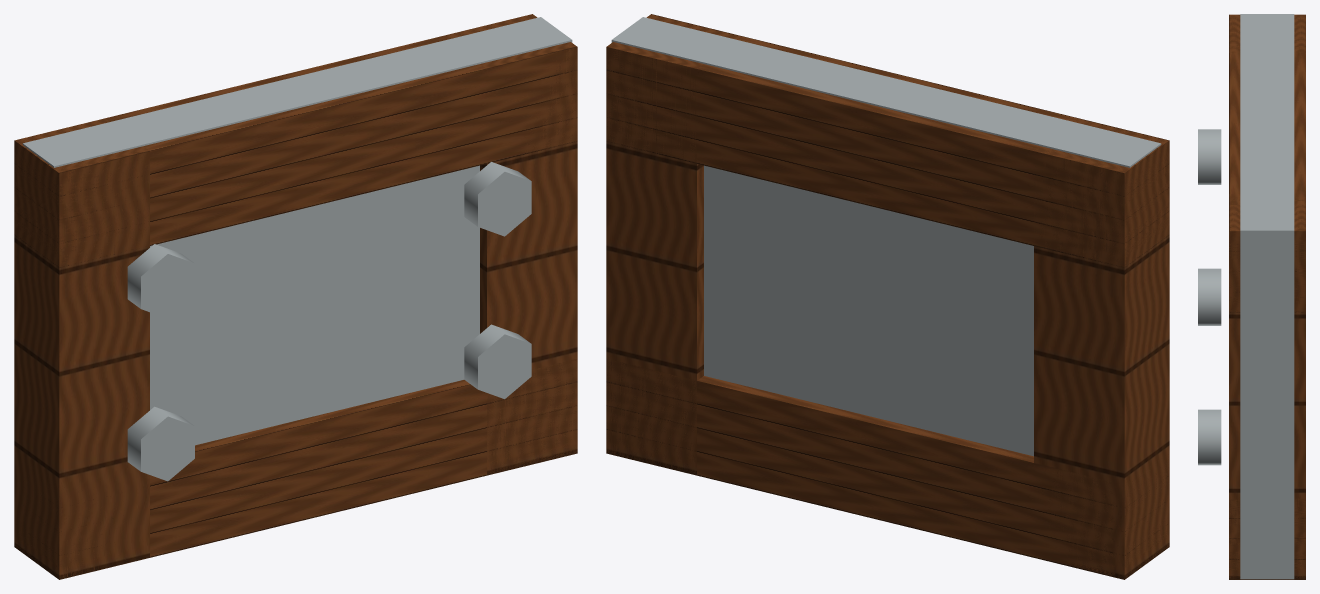
File: modular-survival-base-builder-wall-tie-plate-29d8b4a5__24255.glb
3 renders of one model, left to right at view 1: azimuth 30°, elevation 25°; view 2: azimuth 150°, elevation 25°; view 3: azimuth 270°, elevation 25°, orthographic. The views are drawn at different scales.
Visible parts, largest first — view 1: wall-tie-plate; view 2: wall-tie-plate; view 3: wall-tie-plate.
Boxes of the visible parts, left/top/right/bottom form: wall-tie-plate: left=14, top=14, right=577, bottom=579; wall-tie-plate: left=606, top=14, right=1169, bottom=579; wall-tie-plate: left=1198, top=14, right=1305, bottom=579.
Bounding box in the file's own units: 0.4012 × 0.3012 × 0.084.
2 materials, 1 textured.
